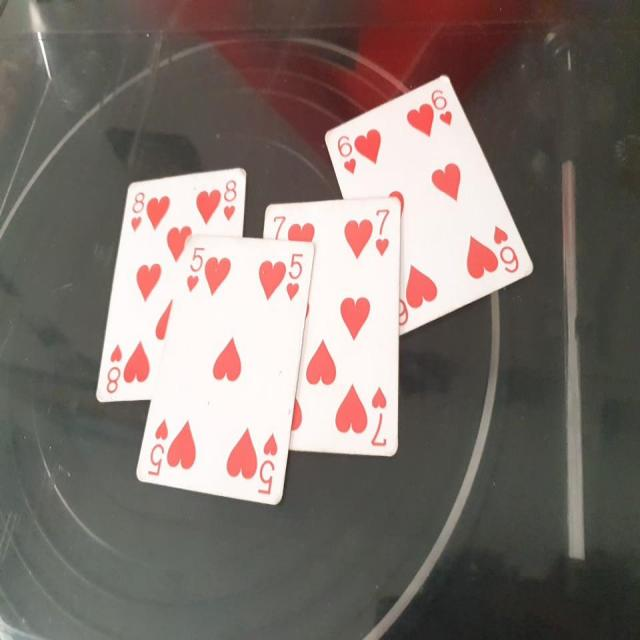5 Hearts: (136, 228, 316, 506)
6 Hearts: (326, 68, 536, 340)
7 Hearts: (261, 194, 408, 466)
8 Hearts: (90, 162, 252, 404)
